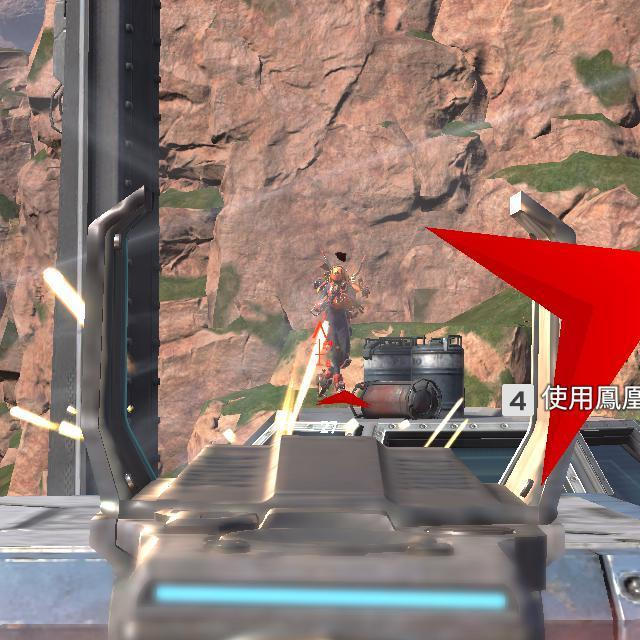avatar: (308, 262, 362, 396)
